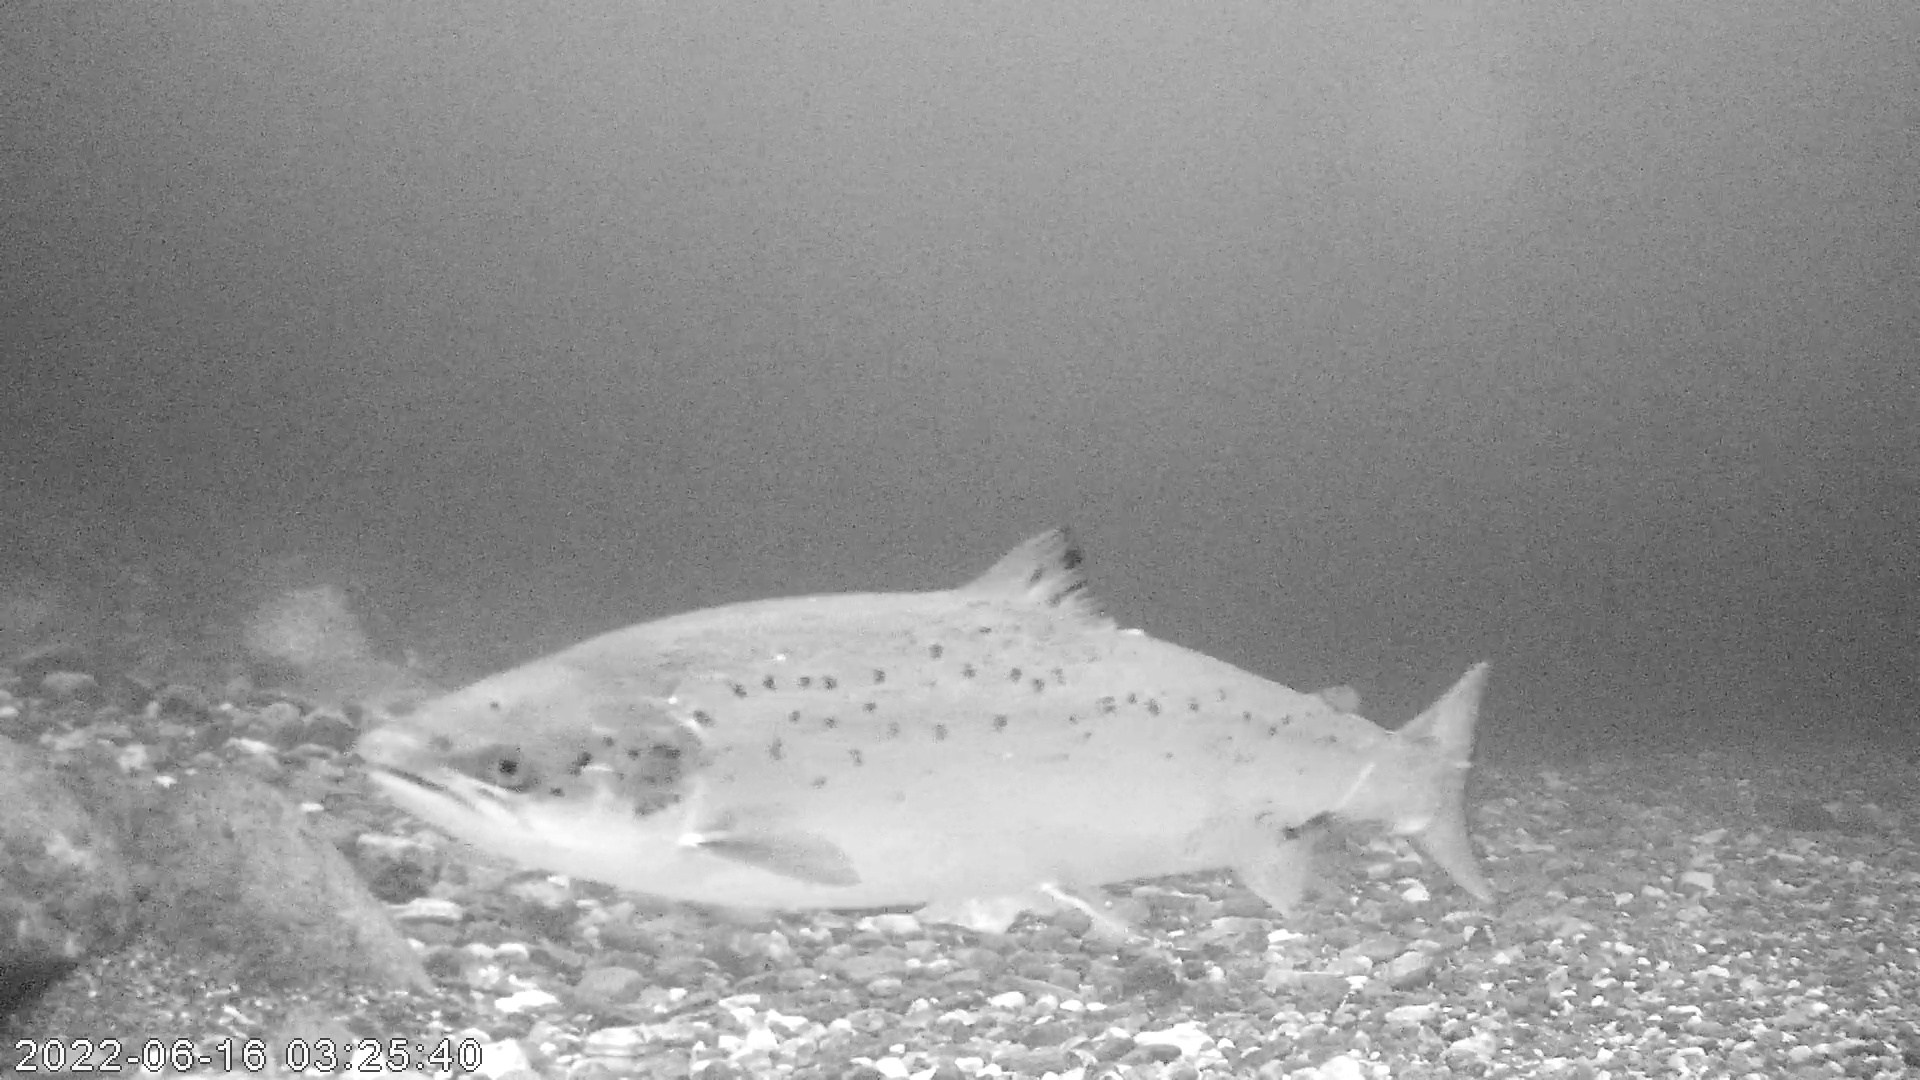salmon: (353, 522, 1501, 943)
